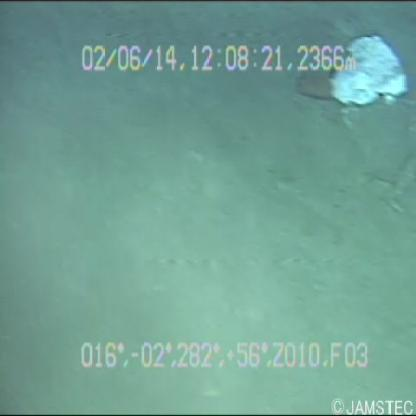Rác: (328, 22, 408, 121)
